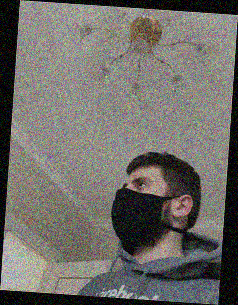with_mask: (111, 174, 168, 247)
